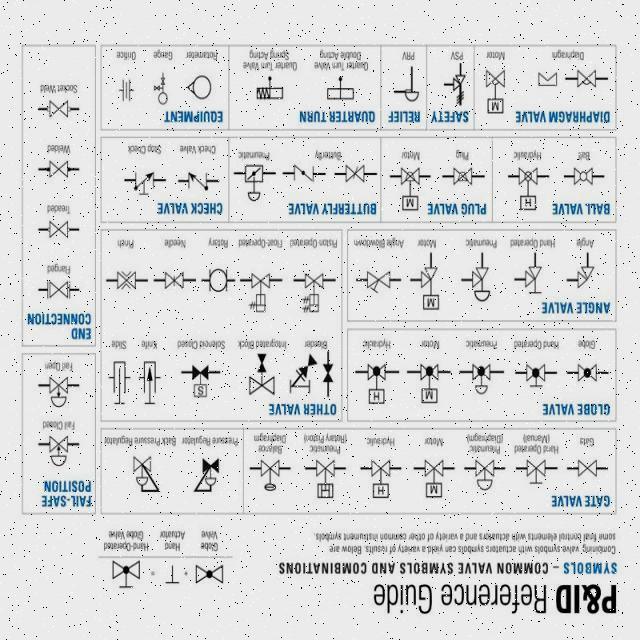Angle Blowdown: (360, 262, 397, 302)
Angle Valve: (568, 255, 603, 293)
BackPressure Regulator: (127, 452, 167, 501)
Balance Diaphragm Gate Valve: (254, 458, 290, 496)
Ball Valve: (570, 162, 596, 193)
Bleeder Valve: (288, 353, 320, 398), (320, 352, 339, 398)
Butterfly Valve: (342, 163, 372, 190), (291, 162, 317, 188)
Check Valve: (184, 172, 212, 195)
Fail Closed Safe Position: (36, 432, 84, 470)
Fail Open Safe Position: (44, 375, 78, 415)
Float Operated Valve: (250, 270, 278, 316)
Gate Valve: (575, 456, 599, 479)
Gauge: (149, 67, 173, 106)
Globe Valve: (574, 360, 604, 387)
Hand Operated Angle Valve: (509, 254, 549, 298)
Hand Operated Gate Valve: (522, 456, 556, 491)
Hand Operated Globe Valve: (520, 358, 554, 392)
Hydraulic Operated Ball Valve: (514, 163, 542, 216)
Hydraulic Operated Gate Valve: (367, 457, 396, 505)
Hydraulic Operated Globe Valve: (364, 358, 390, 408)
Integrated Block Valve: (242, 353, 283, 402)
Knife Valve: (136, 358, 168, 411)
Motor Operated Angle Valve: (410, 252, 446, 314)
Motor Operated Diaphragm Valve: (484, 66, 506, 116), (531, 69, 562, 93)
Motor Operated Gate Valve: (420, 458, 448, 502)
Motor Operated Globe Valve: (417, 359, 444, 411)
Motor Operated Plug Valve: (399, 167, 423, 216)
Needle Valve: (156, 268, 190, 290)
Orifice: (114, 74, 140, 105)
PRV: (388, 66, 424, 105)
PSV: (440, 68, 470, 108)
Pinch Valve: (108, 260, 144, 298)
Piston Operated Valve: (297, 266, 326, 316)
Plug Valve: (452, 167, 478, 190)
Pneumatic-Diaphragm Angle Valve: (464, 260, 500, 308)
Pneumatic-Diaphragm Butterfly Valve: (242, 163, 268, 207)
Pneumatic-Diaphragm Gate Valve: (472, 457, 500, 496)
Pneumatic-Diaphragm Globe Valve: (468, 358, 498, 401)
Pressure Regulator: (191, 453, 226, 499)
Quarter Turn Valve Double Acting: (320, 74, 364, 110)
Quarter Turn Valve Spring Acting: (248, 70, 292, 114)
Rotameter: (185, 70, 218, 106)
Rotary Piston-Pneumatic Gate Valve: (309, 457, 344, 508)
Rotary Valve: (203, 263, 235, 294)
Slide Valve: (106, 352, 135, 410)
Solenoid Closed Valve: (174, 357, 227, 411)
Stop Valve: (132, 170, 156, 202)
